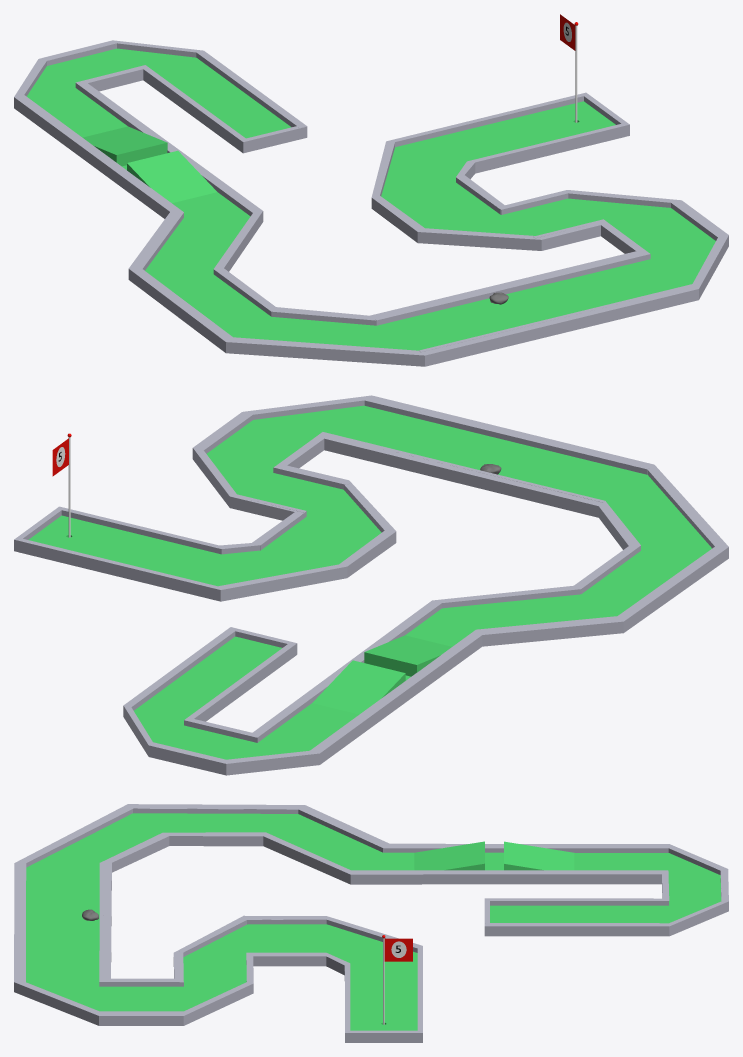
File: bane5 med vægge.fbx
The picture shows the model from 3 angles, top to bottom: view 1: azimuth 30°, elevation 25°; view 2: azimuth 150°, elevation 25°; view 3: azimuth 270°, elevation 25°; orthographic projection. The views are drawn at different scales.
Parts seen in each view (by area): view 1: bane, Cube, Cube.002, rampe2, rampe, Cube.003, Cube.020, Cube.019; view 2: bane, Cube, Cube.002, rampe, Cube.019, rampe2, Cube.020; view 3: bane, Cube, Cube.002, rampe2, rampe, Cube.001, Cube.015, Cube.017, Cube.004, Cube.020, Cube.022, Cube.019.
Boxes of the visible parts, <box> form: bane: <box>27,48,715,350</box>; Cube: <box>14,40,728,366</box>; Cube.002: <box>75,65,650,325</box>; rampe2: <box>127,150,216,202</box>; rampe: <box>83,126,167,166</box>; Cube.003: <box>240,126,307,153</box>; Cube.020: <box>374,263,605,325</box>; Cube.019: <box>419,294,650,352</box>; bane: <box>28,405,711,759</box>; Cube: <box>61,395,728,775</box>; Cube.002: <box>19,432,640,742</box>; rampe: <box>312,660,405,714</box>; Cube.019: <box>364,400,649,474</box>; rampe2: <box>364,635,451,676</box>; Cube.020: <box>366,443,604,502</box>; bane: <box>26,813,721,1030</box>; Cube: <box>14,804,728,1030</box>; Cube.002: <box>99,832,669,1030</box>; rampe2: <box>414,841,484,870</box>; rampe: <box>504,841,574,870</box>; Cube.001: <box>345,1030,422,1042</box>; Cube.015: <box>133,808,298,813</box>; Cube.017: <box>26,809,132,867</box>; Cube.004: <box>384,938,412,961</box>; Cube.020: <box>99,862,103,962</box>; Cube.022: <box>247,919,326,924</box>; Cube.019: <box>22,863,25,981</box>.
Bounding box in the file's own units: 641 × 126 × 846.
